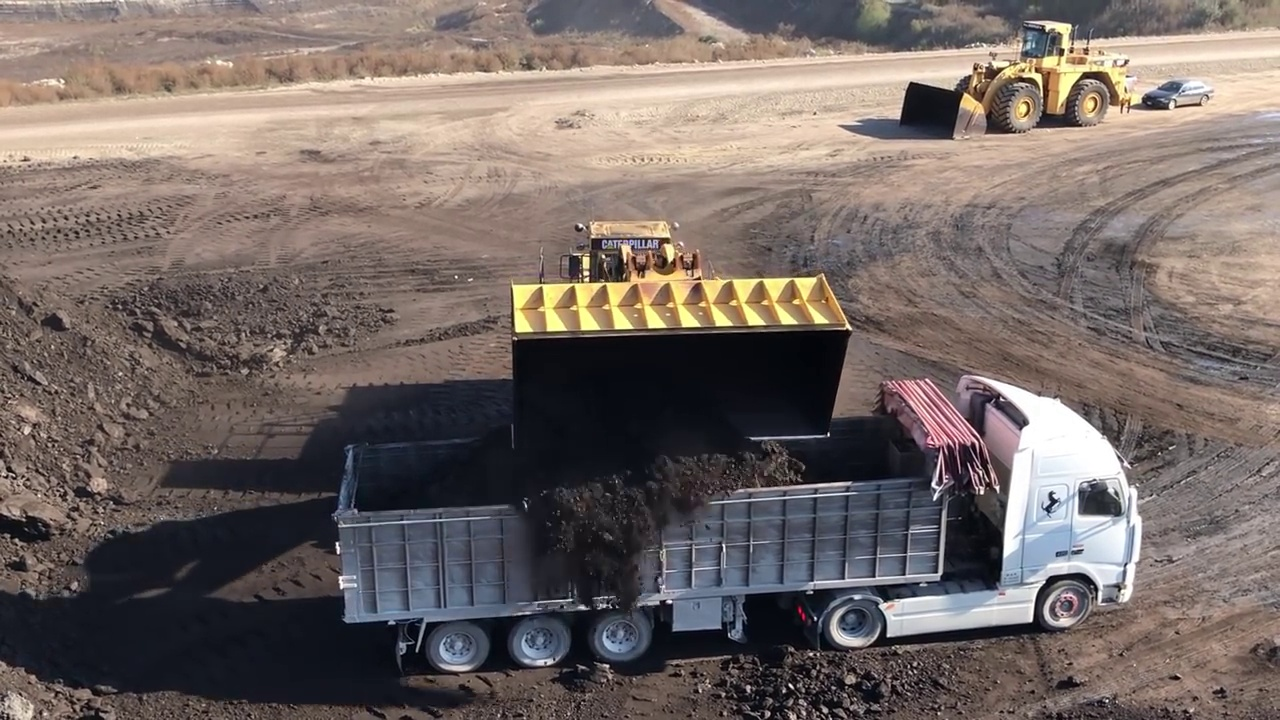car: (1145, 80, 1218, 110)
truck: (316, 375, 1146, 669)
wheel loader: (507, 218, 856, 450), (901, 21, 1136, 139)
